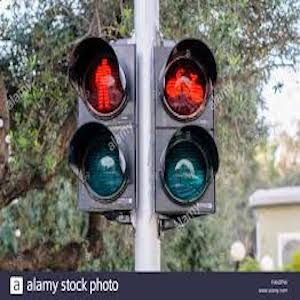red: (91, 59, 119, 111), (168, 64, 201, 103)
